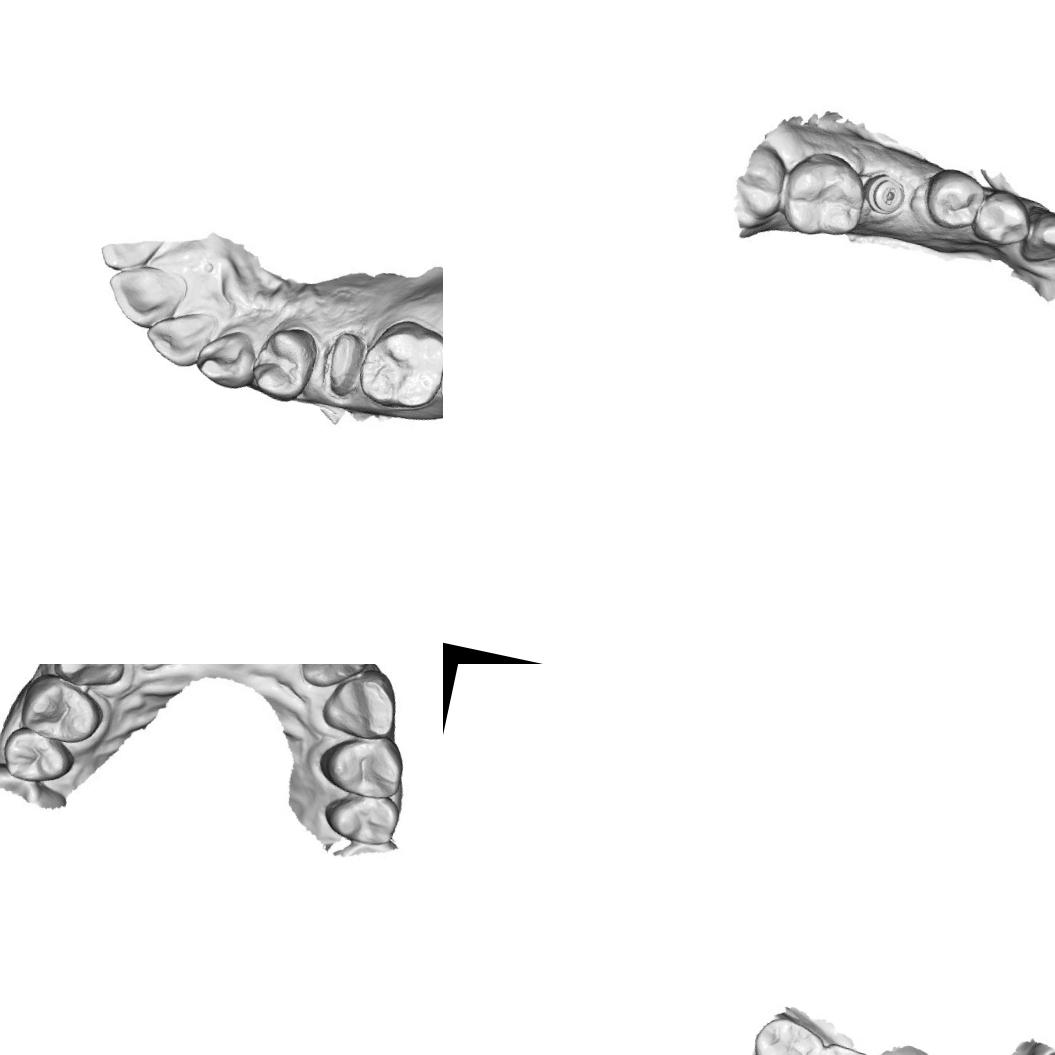canine: (312, 664, 408, 755), (193, 322, 263, 396), (49, 664, 134, 695), (1018, 206, 1055, 272)
crown: (320, 324, 372, 399)
implant_minus: (862, 171, 909, 219)
incisor: (96, 254, 192, 336), (141, 300, 223, 374), (295, 664, 376, 702)
molar: (772, 142, 875, 247), (357, 315, 443, 415), (748, 1012, 828, 1055), (808, 1040, 885, 1055)
premolar: (315, 724, 414, 807), (18, 672, 112, 752), (320, 784, 404, 860), (250, 320, 322, 404), (0, 725, 78, 798), (916, 163, 988, 236), (968, 184, 1038, 253)
